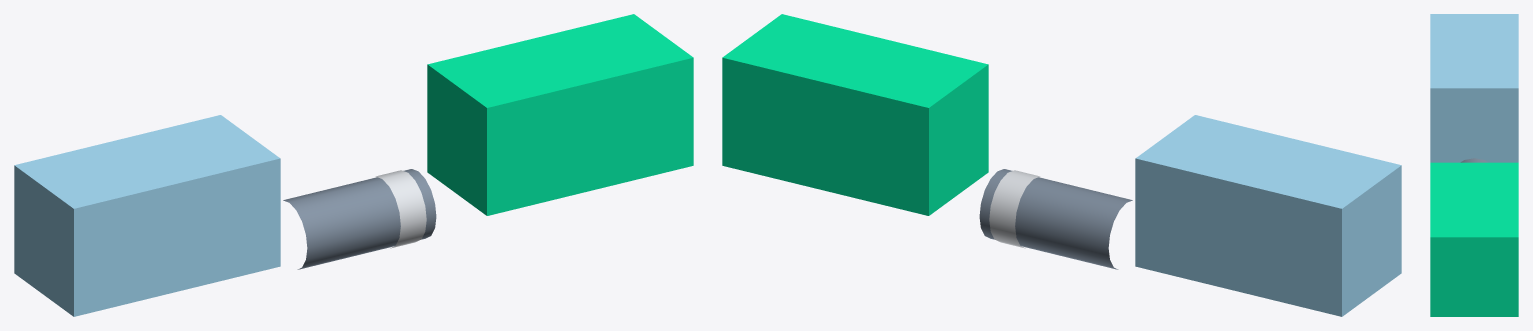
The model's file is pn_junction_diode_knee_voltage.glb.
3 renders of one model, left to right at view 1: azimuth 30°, elevation 25°; view 2: azimuth 150°, elevation 25°; view 3: azimuth 270°, elevation 25°, orthographic. The views are drawn at different scales.
Parts seen in each view (by area): view 1: ForwardBiasingVariableDCPower, DualChannelVoltAmmeterTrainer, SemiconductorDiodeGlassBody, SilverCathodeBandIndicator; view 2: ForwardBiasingVariableDCPower, DualChannelVoltAmmeterTrainer, SemiconductorDiodeGlassBody, SilverCathodeBandIndicator; view 3: DualChannelVoltAmmeterTrainer, ForwardBiasingVariableDCPower, SemiconductorDiodeGlassBody.
Part boxes in pixels (x1,y1,x2,y2): ForwardBiasingVariableDCPower: [14, 115, 280, 316]; DualChannelVoltAmmeterTrainer: [427, 14, 693, 215]; SemiconductorDiodeGlassBody: [283, 169, 436, 269]; SilverCathodeBandIndicator: [375, 170, 426, 248]; ForwardBiasingVariableDCPower: [1135, 115, 1401, 316]; DualChannelVoltAmmeterTrainer: [722, 14, 988, 215]; SemiconductorDiodeGlassBody: [979, 169, 1132, 269]; SilverCathodeBandIndicator: [989, 170, 1040, 248]; DualChannelVoltAmmeterTrainer: [1430, 162, 1518, 316]; ForwardBiasingVariableDCPower: [1430, 14, 1518, 162]; SemiconductorDiodeGlassBody: [1460, 158, 1488, 162].
Bounding box in the file's own units: 1.2 × 0.262 × 0.2.
